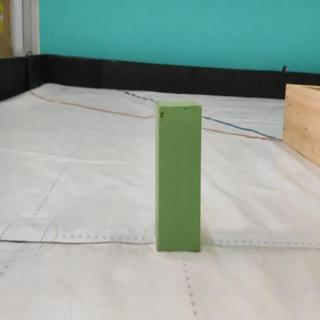greenbox: (151, 97, 204, 253)
